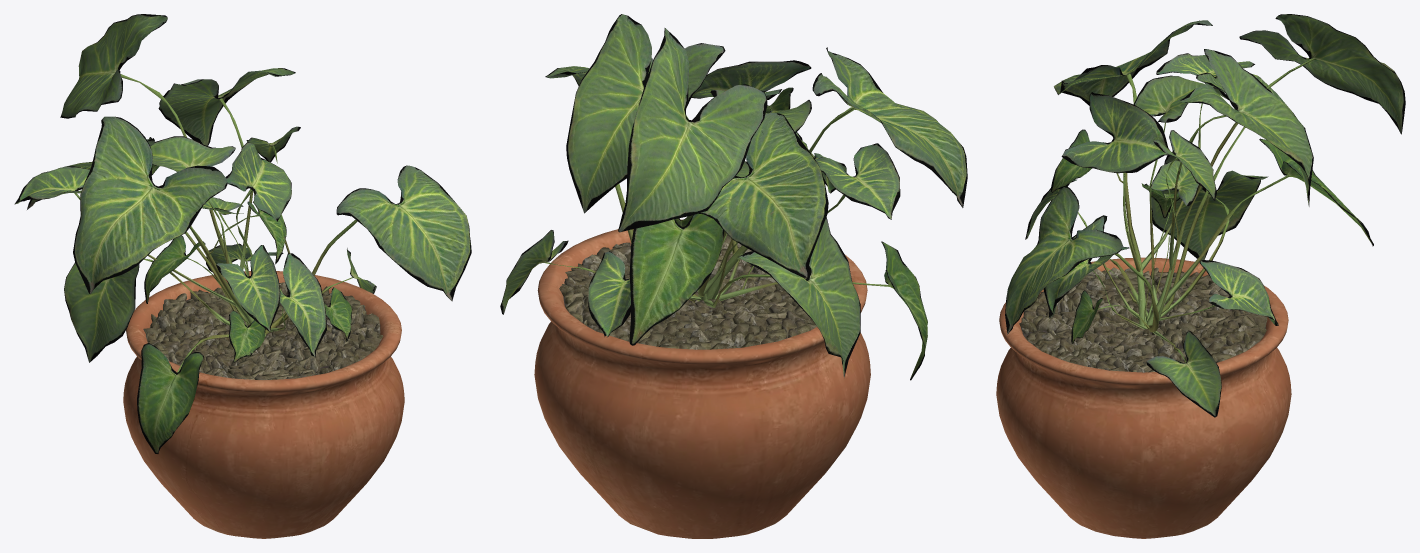
Rendered from potted_plant_02.glb.
The picture shows the model from 3 angles, left to right: view 1: azimuth 30°, elevation 25°; view 2: azimuth 150°, elevation 25°; view 3: azimuth 270°, elevation 25°; orthographic projection. The views are drawn at different scales.
Visible parts, largest first — view 1: potted_plant_02_leaves, potted_plant_02_pot; view 2: potted_plant_02_leaves, potted_plant_02_pot; view 3: potted_plant_02_pot, potted_plant_02_leaves.
Part boxes in pixels (x1,y1,x2,y2): potted_plant_02_leaves: [14, 14, 471, 453]; potted_plant_02_pot: [123, 271, 404, 538]; potted_plant_02_leaves: [500, 14, 967, 380]; potted_plant_02_pot: [534, 219, 870, 538]; potted_plant_02_pot: [996, 257, 1291, 538]; potted_plant_02_leaves: [1005, 14, 1405, 417].
Size of the model in its own units: 0.7009 by 0.8411 by 0.6574.
2 materials, 2 textured.
